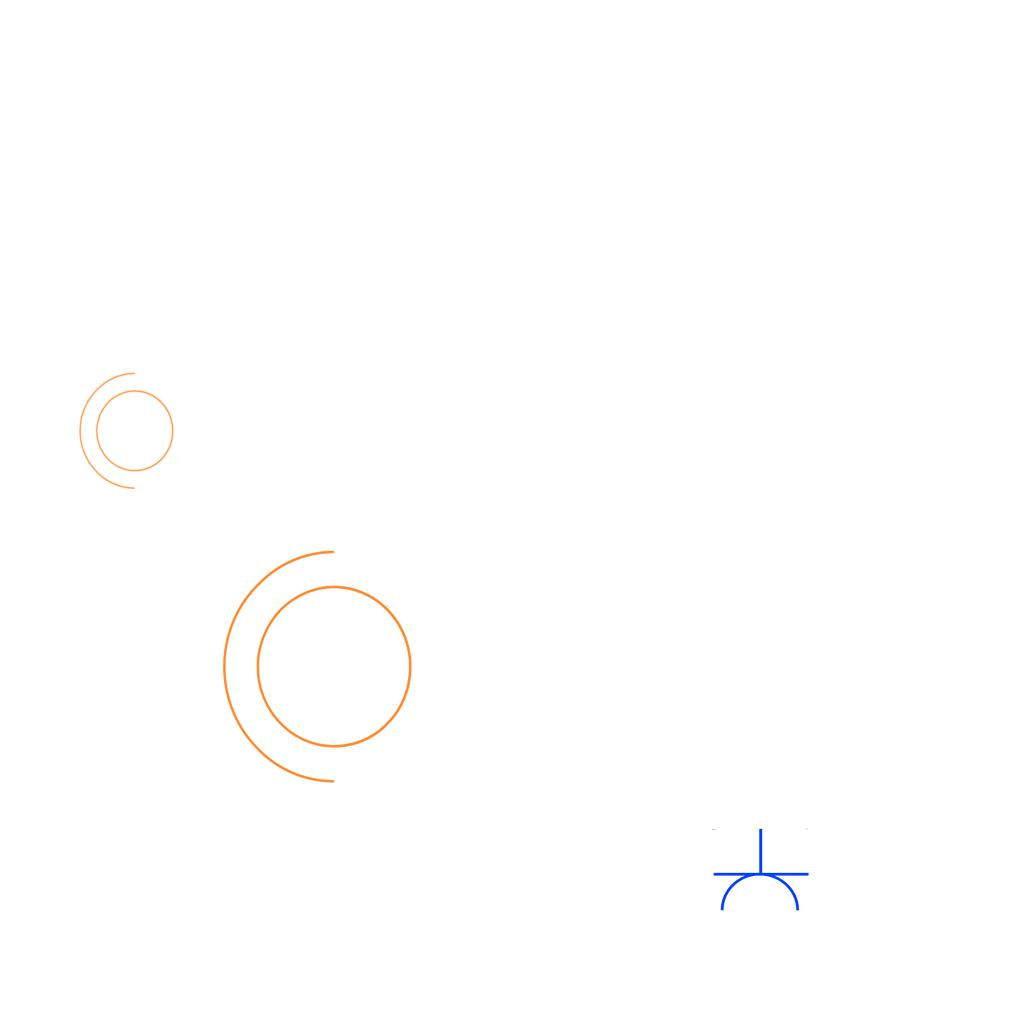Scheinwerfer_fuer_Alarmbeleuchtung: (212, 541, 437, 805), (74, 368, 186, 500)
Schukosteckdose_einfach: (710, 828, 810, 915)
